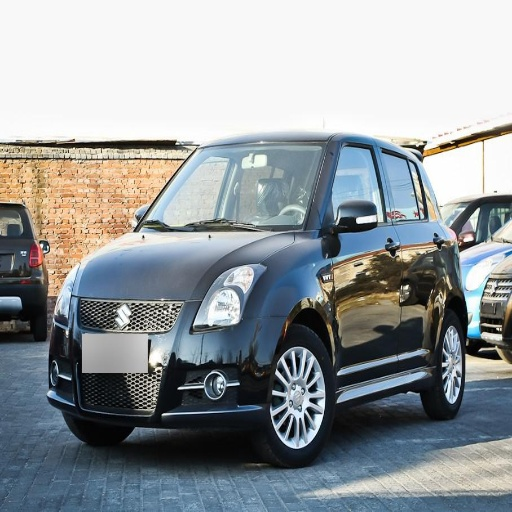front_bumper: (48, 296, 286, 430)
front_glass: (135, 149, 323, 231)
front_left_door: (319, 140, 403, 381)
